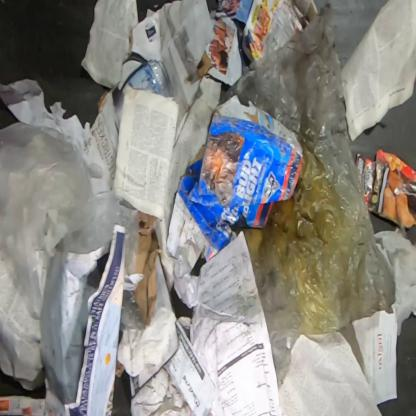cardboard: (166, 95, 305, 263), (90, 0, 215, 183), (356, 148, 415, 232)
soft_plastic: (225, 0, 396, 392), (0, 122, 138, 322), (119, 289, 146, 332)
